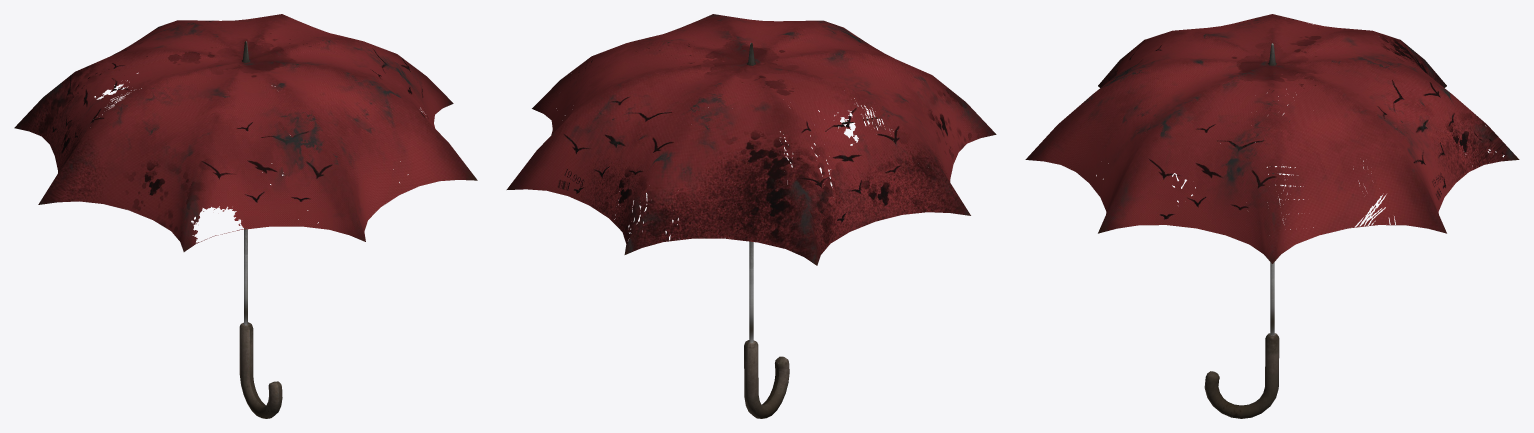
The model's file is weathered_umbrella__gameready.glb.
3 renders of one model, left to right at view 1: azimuth 30°, elevation 25°; view 2: azimuth 150°, elevation 25°; view 3: azimuth 270°, elevation 25°, orthographic. The views are drawn at different scales.
Visible parts, largest first — view 1: Umbrella_LOW; view 2: Umbrella_LOW; view 3: Umbrella_LOW.
Boxes of the visible parts, x1,y1,x2,y2 form: Umbrella_LOW: (14, 14, 477, 418); Umbrella_LOW: (506, 14, 996, 418); Umbrella_LOW: (1025, 14, 1519, 418).
Bounding box in the file's own units: 1.19 × 0.9968 × 1.19.
Materials: 1 (1 with a texture image).
